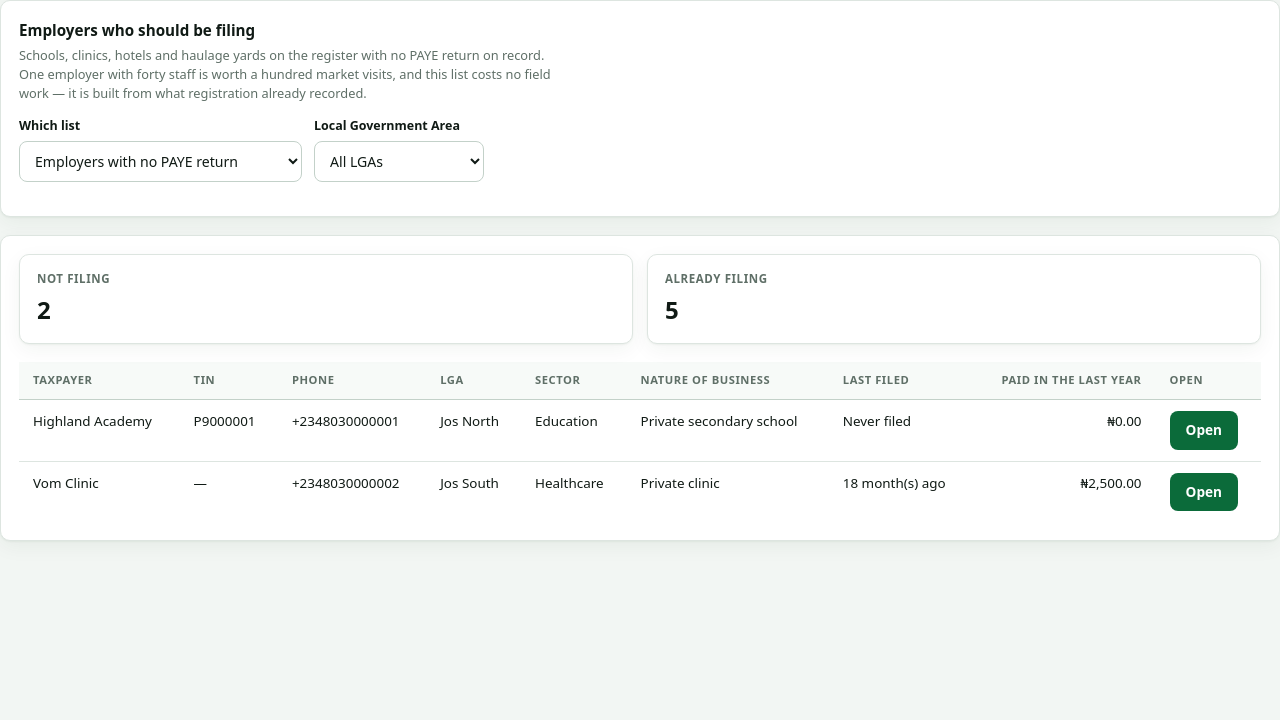
the return form › has nowhere to type a tax figure
expect the text "Highland Academy" is shown: met, box [19,400,180,461]
Click the button "Open" in the row of "Highland Academy". click: (1204, 430)
box: [1170,411,1238,450]
(page scrolled)
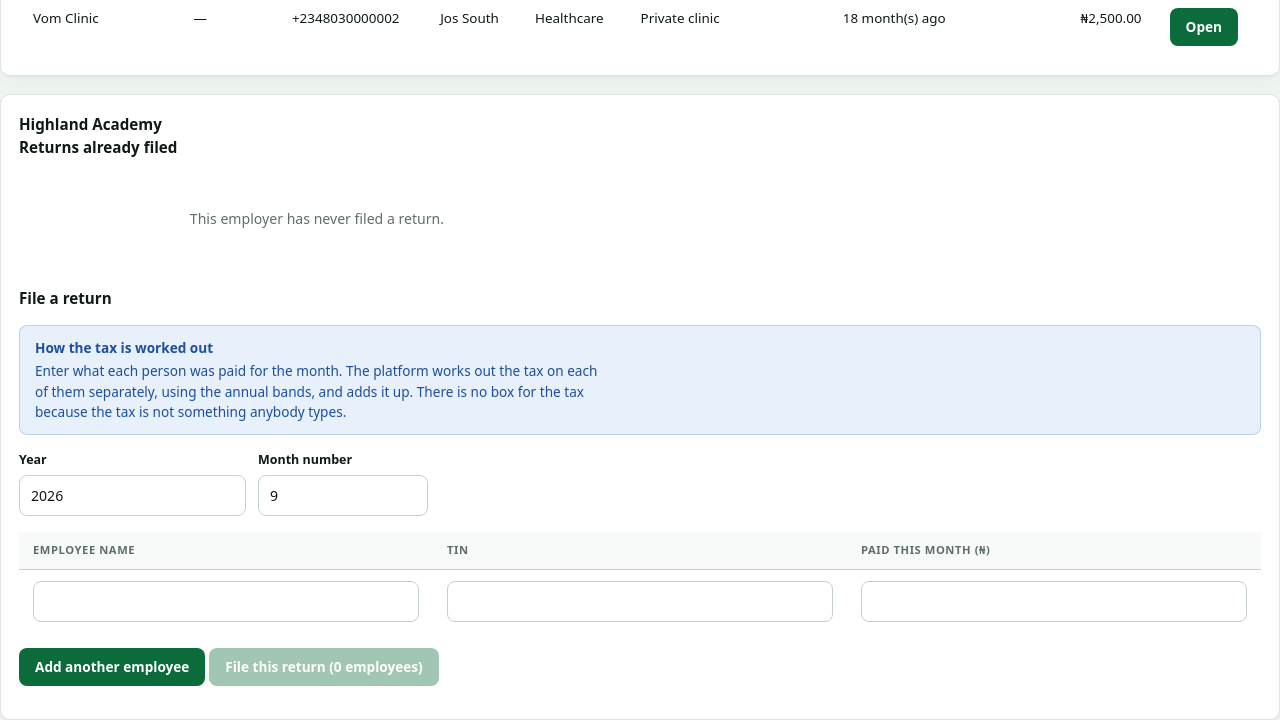
expect the heading "File a return" is shown: met, box [19,288,112,308]
expect the field named "Employee name 1" is shown: met, box [33,581,419,622]
expect the field named "Paid this month (₦) 1" is shown: met, box [861,581,1247,622]
